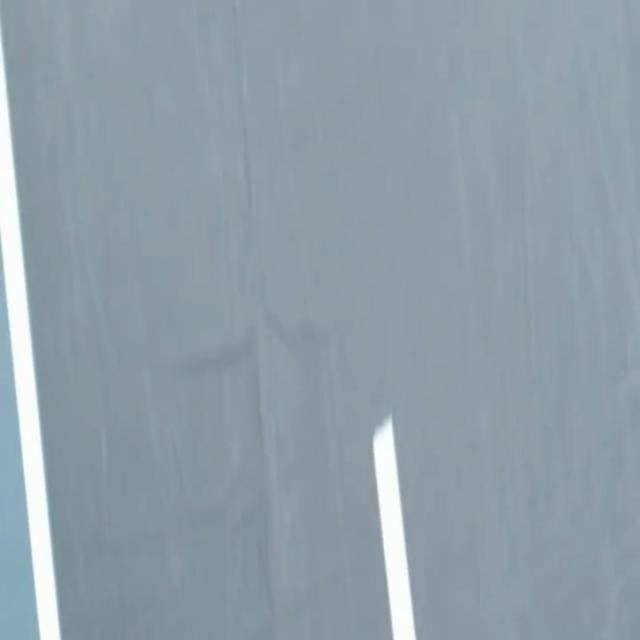center: (373, 415, 416, 639)
